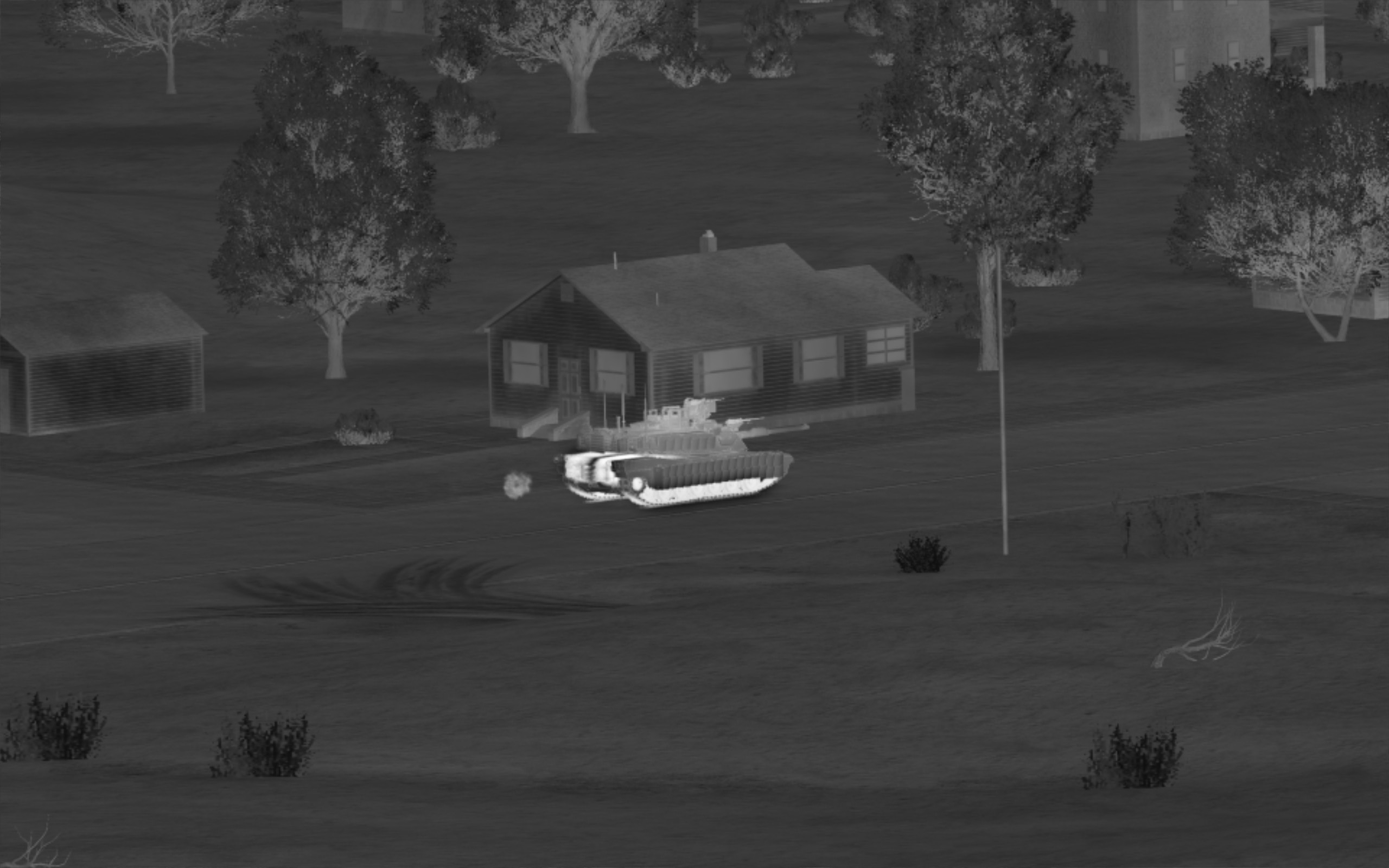abrams: (554, 396, 810, 508)
